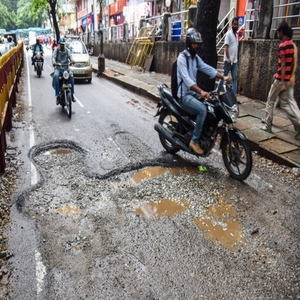pothole: (102, 159, 249, 239), (29, 140, 97, 183)
